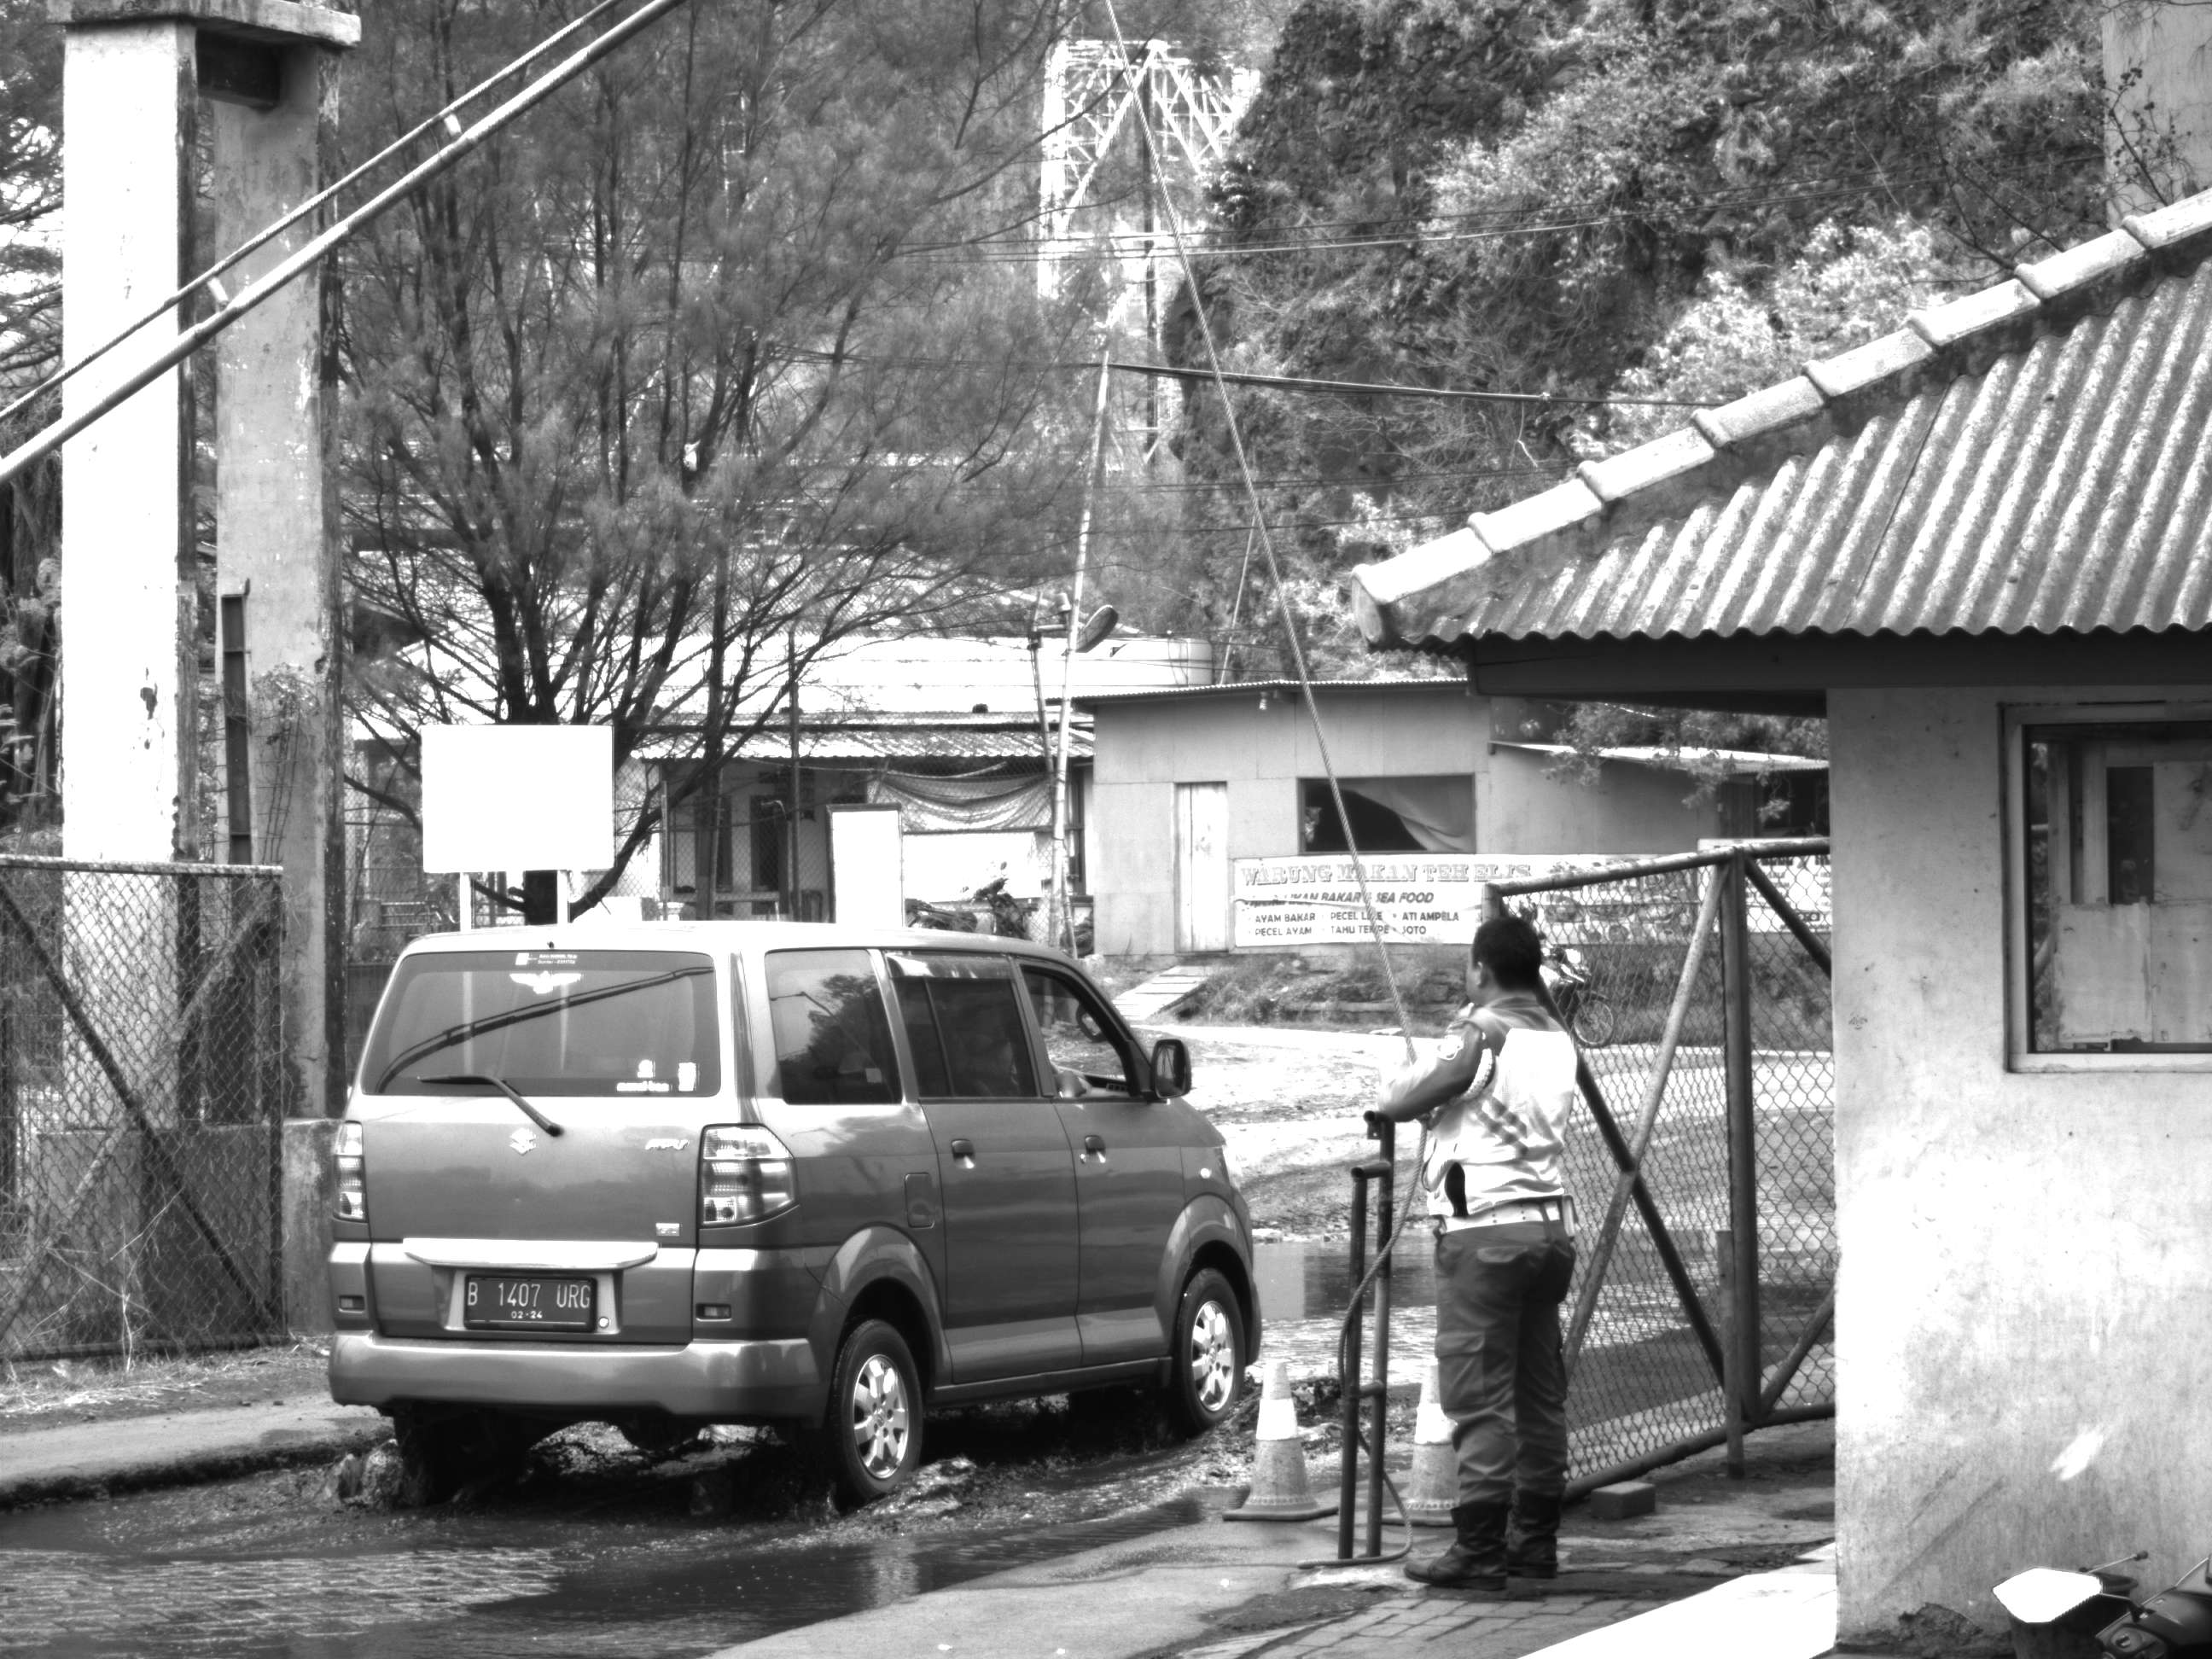day_small_rear: (321, 896, 932, 1493)
plate: (457, 1271, 609, 1334)
